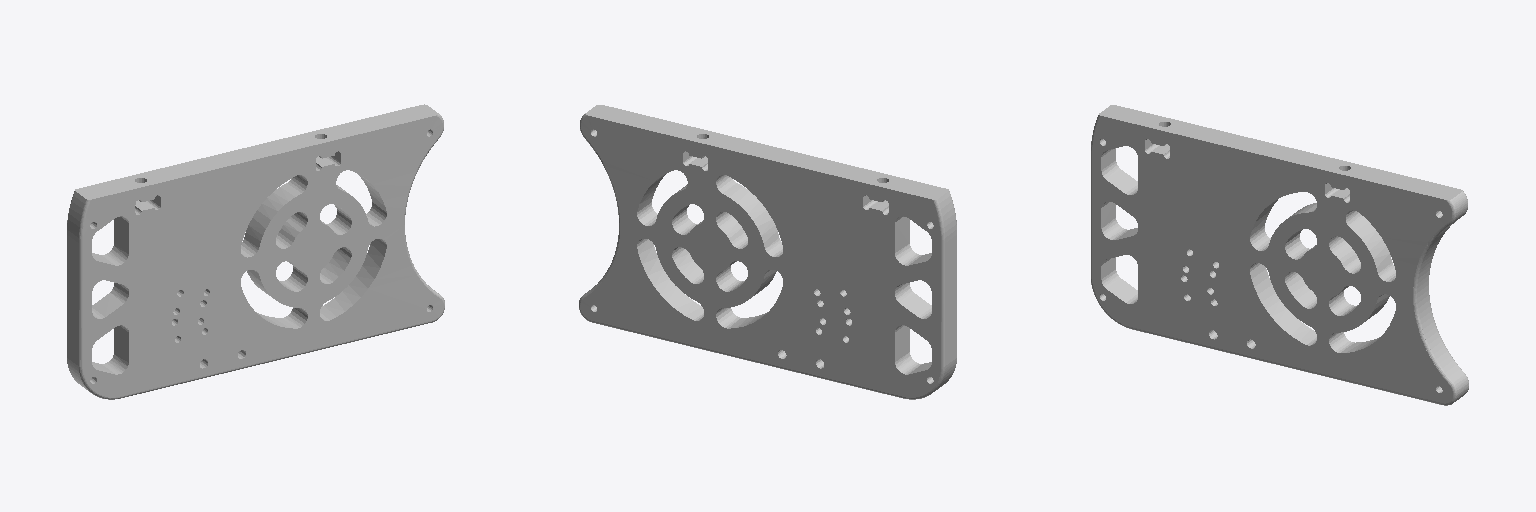
The model's file is under_hull_r2_vis.obj.
The picture shows the model from 3 angles: view 1: azimuth 30°, elevation 25°; view 2: azimuth 150°, elevation 25°; view 3: azimuth 330°, elevation 25°; orthographic projection.
Parts seen in each view (by area): view 1: Under_Hull_R2_vis; view 2: Under_Hull_R2_vis; view 3: Under_Hull_R2_vis.
Part boxes in pixels (bbox=[...]): Under_Hull_R2_vis: bbox=[67, 104, 444, 399]; Under_Hull_R2_vis: bbox=[579, 105, 956, 399]; Under_Hull_R2_vis: bbox=[1091, 105, 1468, 405].
Bounding box in the file's own units: 0.1831 × 0.099 × 0.0127.